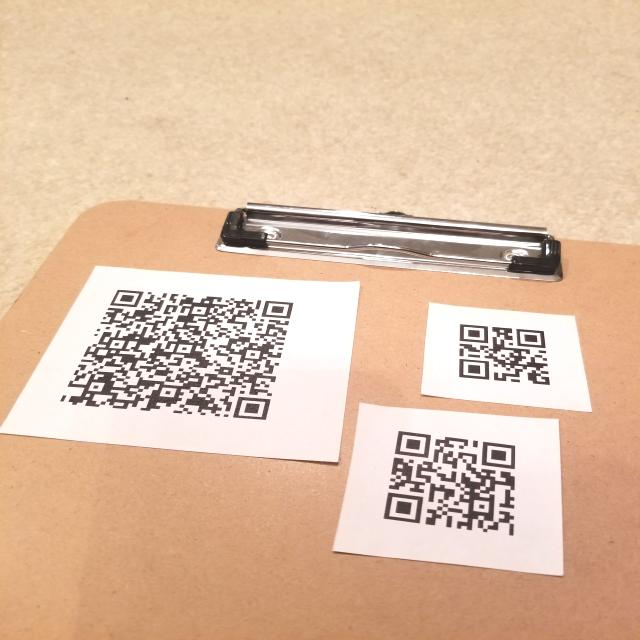QRCode: (51, 285, 307, 428), (374, 425, 531, 548), (448, 314, 567, 398)
